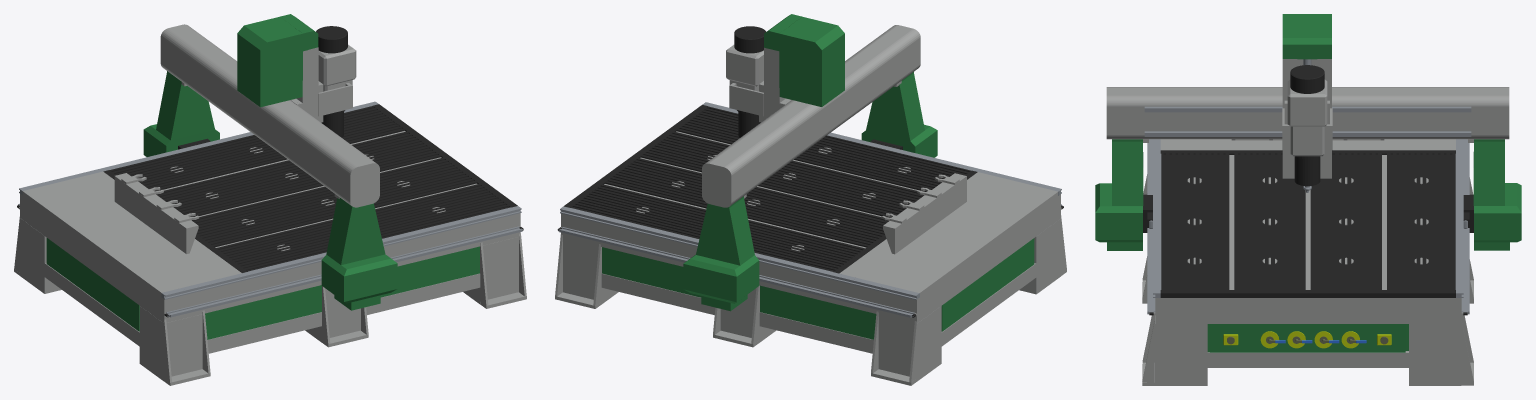
The model's file is stanok.fbx.
3 views of the same model, side by side, from view 1: azimuth 30°, elevation 25°; view 2: azimuth 150°, elevation 25°; view 3: azimuth 270°, elevation 25° (orthographic). The views are drawn at different scales.
Parts seen in each view (by area): view 1: tb, br1, br2, br3; view 2: tb, br1, br2, br3; view 3: tb, br1, br3, br2.
Boxes of the visible parts, x1,y1,x2,y2 form: tb: (14, 101, 526, 385); br1: (143, 24, 397, 310); br2: (237, 14, 318, 120); br3: (316, 26, 356, 137); tb: (555, 102, 1066, 385); br1: (683, 25, 937, 311); br2: (764, 14, 844, 120); br3: (726, 26, 765, 137); tb: (1142, 139, 1473, 385); br1: (1095, 87, 1521, 250); br3: (1282, 65, 1332, 192); br2: (1282, 14, 1331, 178).
Size of the model in its own units: 1308 by 887 by 1262.
